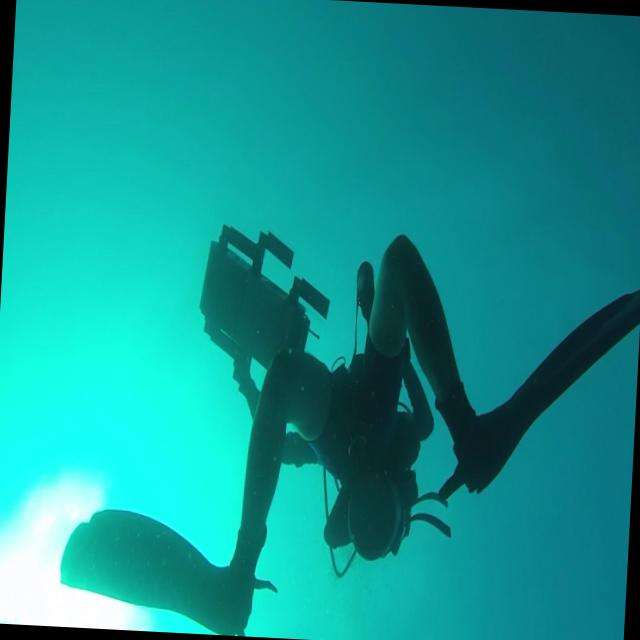human: (57, 217, 640, 640)
